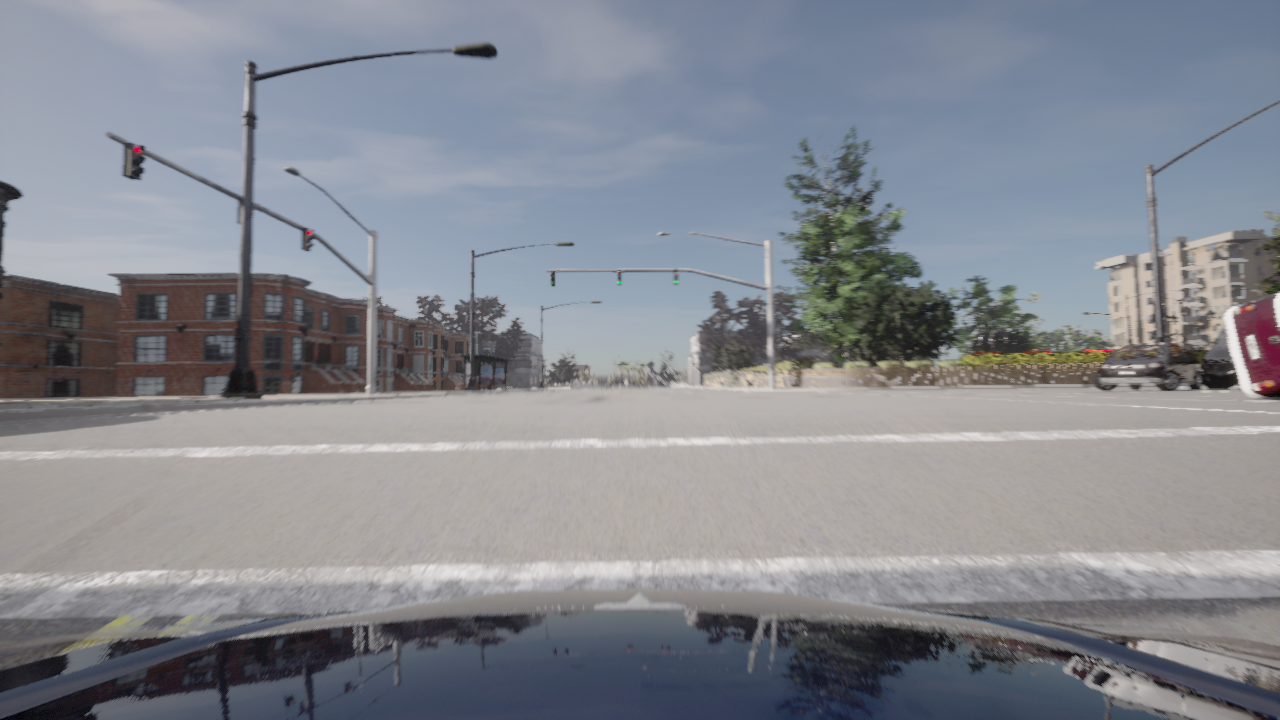cyclist: (0, 588, 1279, 719), (1224, 293, 1279, 399), (1092, 343, 1202, 391), (1199, 325, 1238, 389)
pedestrian: (455, 379, 459, 391)
